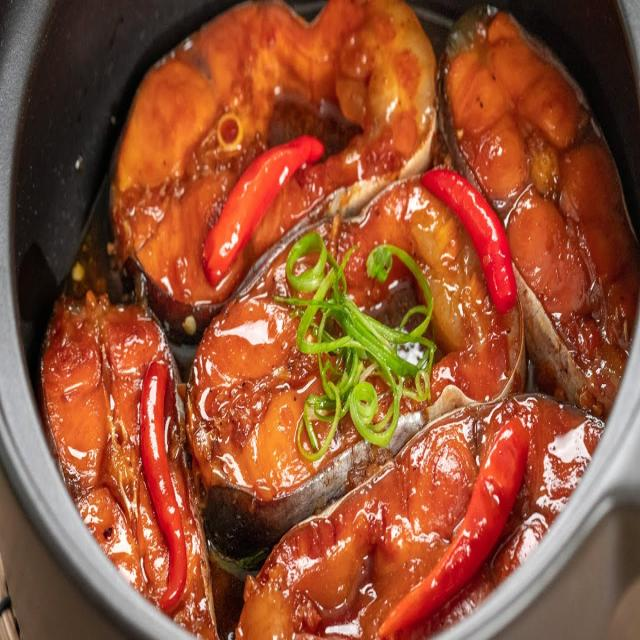ca kho: (186, 177, 524, 552), (111, 0, 434, 332), (439, 5, 640, 416), (40, 291, 175, 592)
ot: (380, 420, 528, 639), (202, 136, 324, 284), (420, 168, 516, 312), (140, 362, 186, 612)
